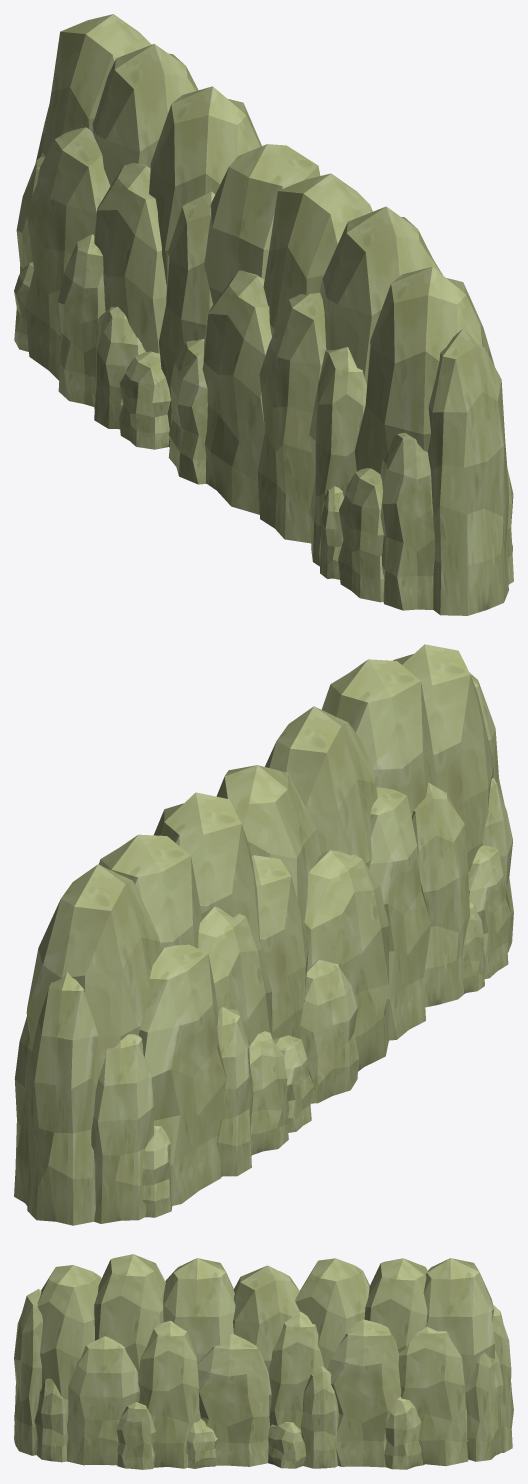
File: ModelWall_Omote_Green.fbx
3 renders of one model, top to bottom at view 1: azimuth 30°, elevation 25°; view 2: azimuth 150°, elevation 25°; view 3: azimuth 270°, elevation 25°, orthographic. The views are drawn at different scales.
Parts seen in each view (by area): view 1: Kabe_Omote_Green; view 2: Kabe_Omote_Green; view 3: Kabe_Omote_Green.
Boxes of the visible parts, box(x1,y1,x2,y2) form: Kabe_Omote_Green: box(14, 14, 513, 615); Kabe_Omote_Green: box(14, 644, 513, 1225); Kabe_Omote_Green: box(14, 1254, 513, 1469).
Bounding box in the file's own units: 23.23 × 38.93 × 92.04.
1 material, 1 textured.
